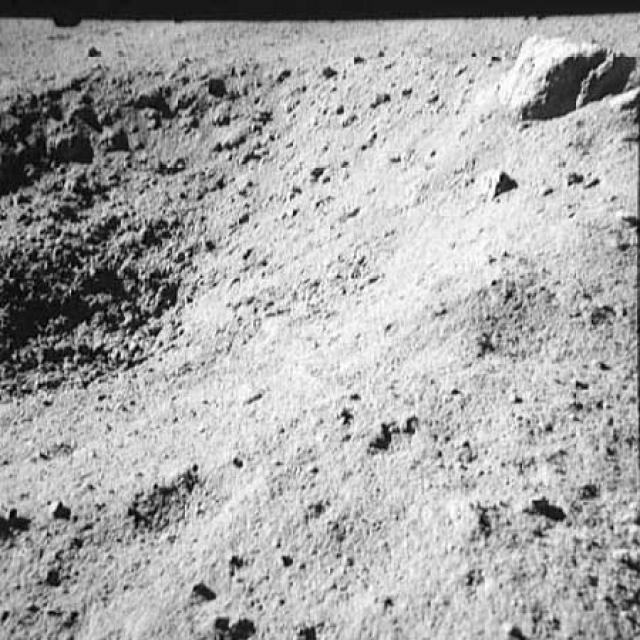rock: (504, 26, 624, 125), (472, 164, 520, 202), (559, 164, 586, 184)
